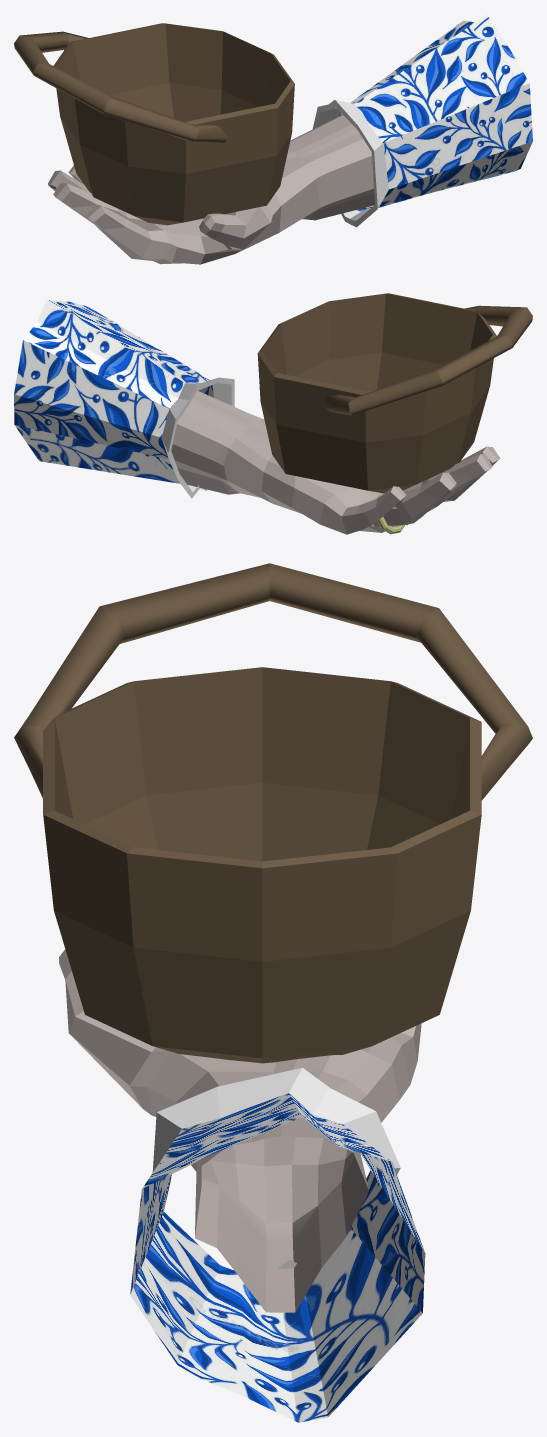
File: GrannyHand.fbx
3 views of the same model, one above another, from view 1: azimuth 30°, elevation 25°; view 2: azimuth 150°, elevation 25°; view 3: azimuth 270°, elevation 25° (orthographic). The views are drawn at different scales.
Parts seen in each view (by area): view 1: GrannyHand; view 2: GrannyHand; view 3: GrannyHand.
Boxes of the visible parts, <box> form: GrannyHand: <box>14,14,532,264</box>; GrannyHand: <box>14,293,532,534</box>; GrannyHand: <box>14,563,532,1422</box>.
Size of the model in its own units: 35.74 by 17.12 by 18.3.
Materials: 5 (1 with a texture image).
